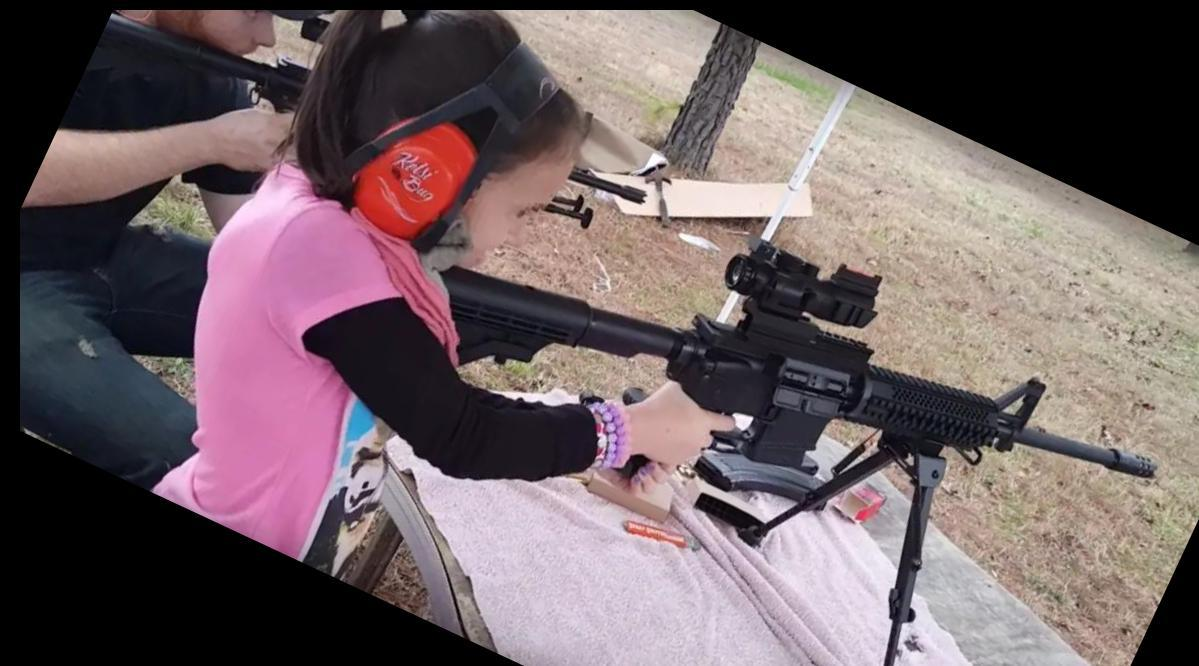larga: (441, 234, 1159, 666)
